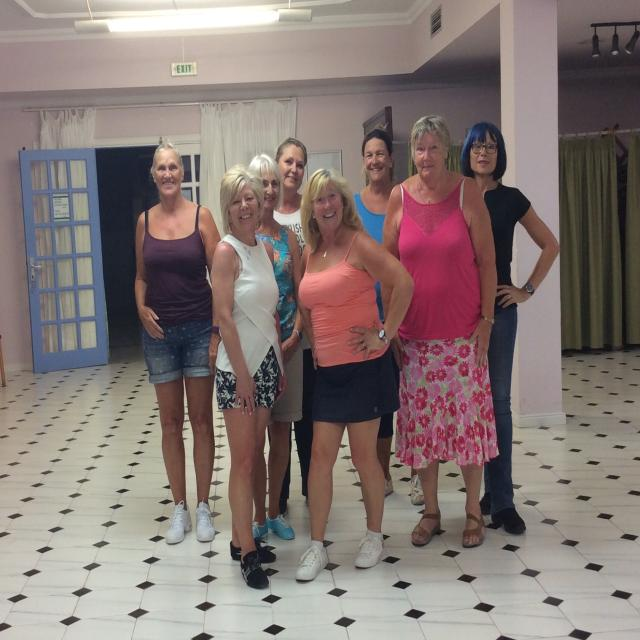body: (376, 111, 500, 551), (291, 166, 417, 584), (459, 119, 562, 536), (132, 142, 222, 545), (208, 161, 290, 591), (228, 152, 306, 548), (349, 128, 426, 505), (266, 136, 318, 520)
